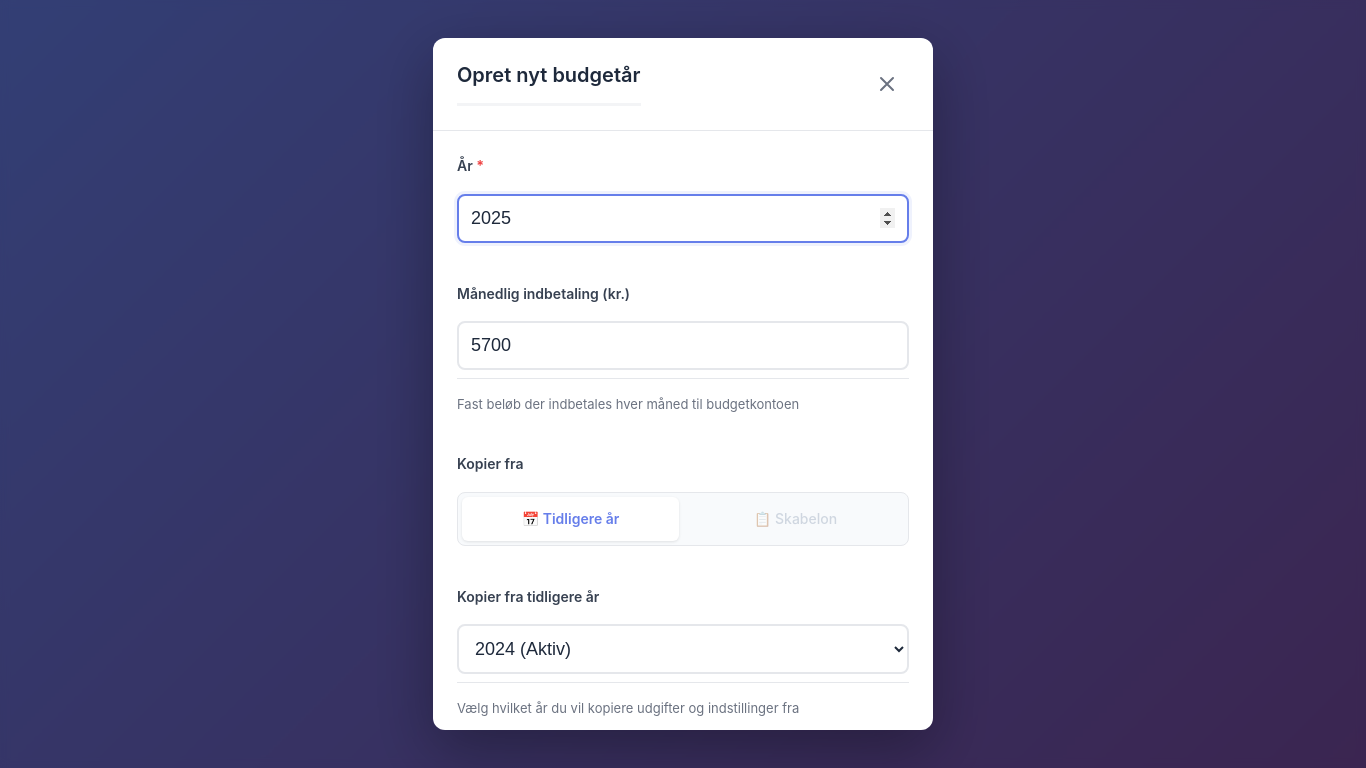
CreateYearModal Integration Tests › Form Validation › should reject year below 2000
Replace the text in the number field labelled "År *" with "1999" at (683, 218), box [457,194,909,243]
(page scrolled)
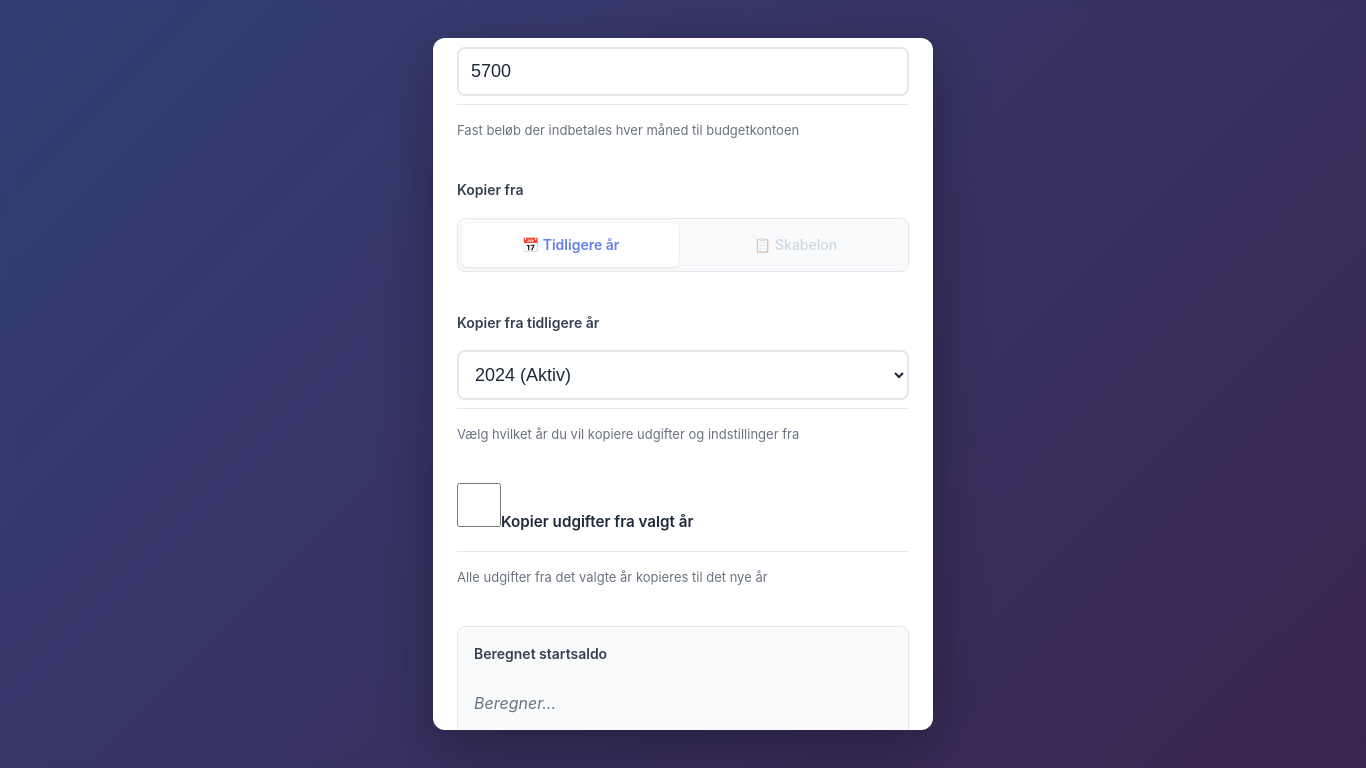
Submit the form labelled "År"
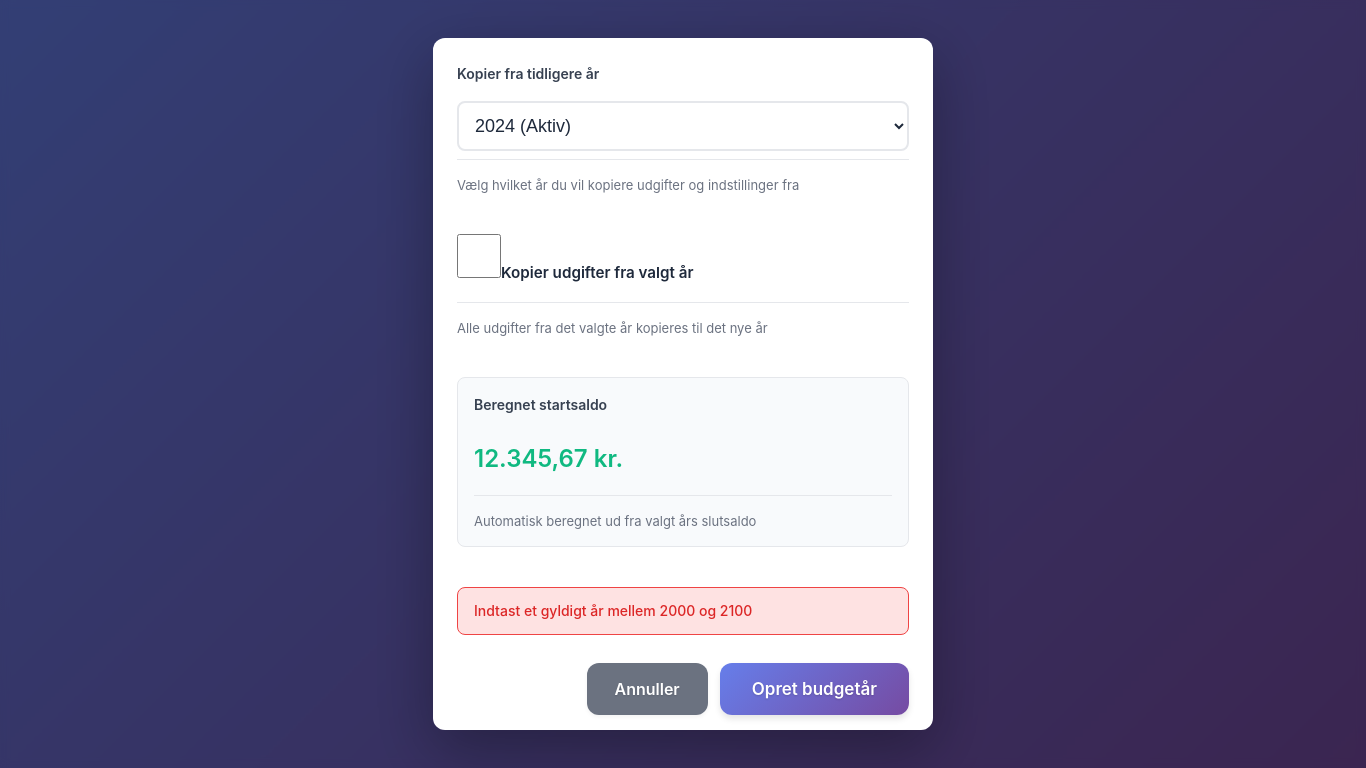
Result: the text "Indtast et gyldigt år mellem 2000 og 2100" is shown at [457,587,909,635]
